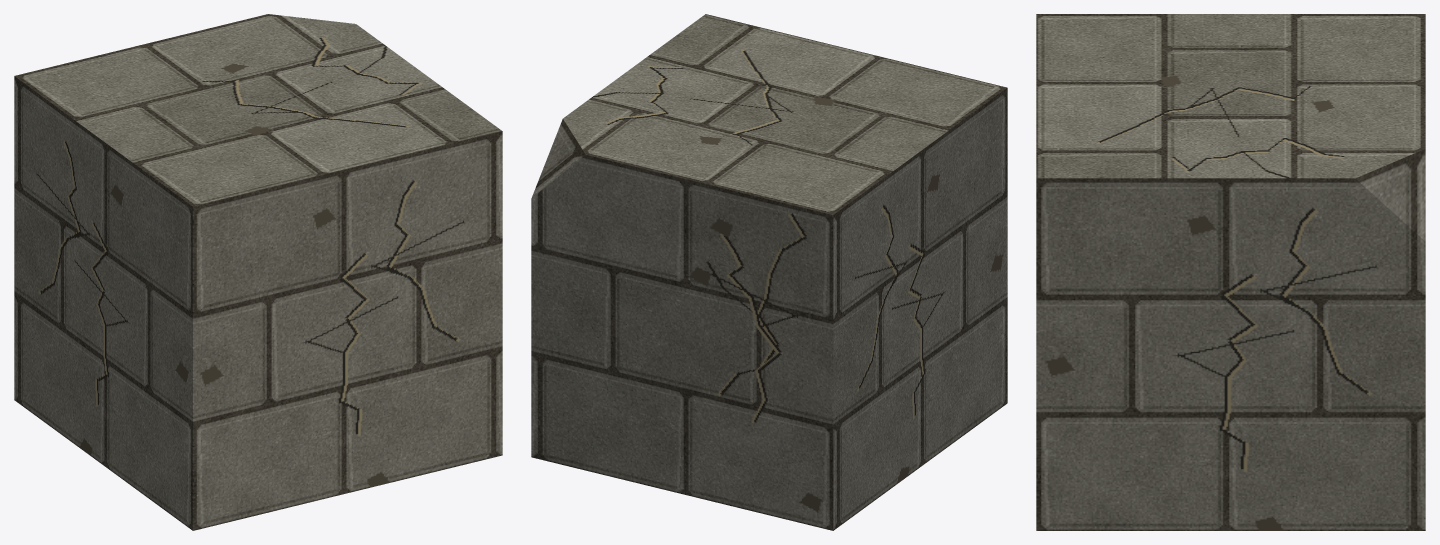
Rendered from stone_z1.glb.
The picture shows the model from 3 angles, left to right: view 1: azimuth 30°, elevation 25°; view 2: azimuth 150°, elevation 25°; view 3: azimuth 270°, elevation 25°; orthographic projection. The views are drawn at different scales.
Visible parts, largest first — view 1: stone_z1; view 2: stone_z1; view 3: stone_z1.
Boxes of the visible parts, <box> form: stone_z1: <box>14,14,502,530</box>; stone_z1: <box>531,14,1007,530</box>; stone_z1: <box>1036,14,1425,530</box>.
Bounding box in the file's own units: 1 × 1 × 1.
Materials: 1 (1 with a texture image).
